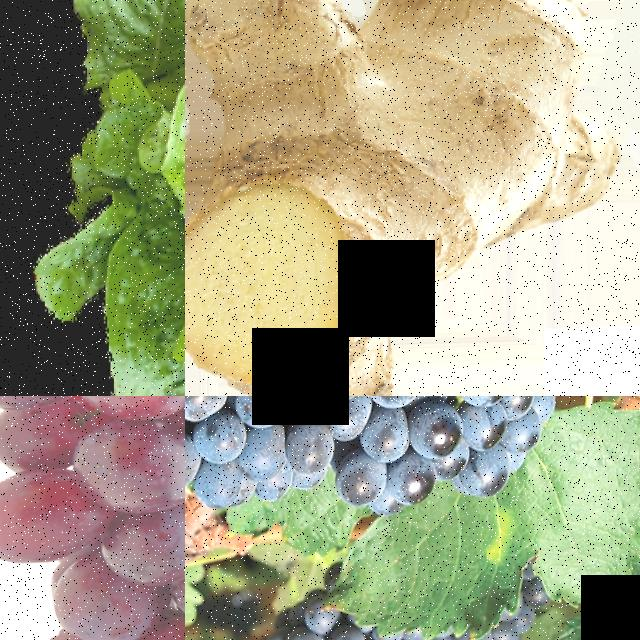ginger: (185, 0, 627, 396)
grapes: (185, 396, 553, 523), (0, 396, 185, 640), (256, 621, 544, 640)
lettuce: (58, 0, 185, 396)
